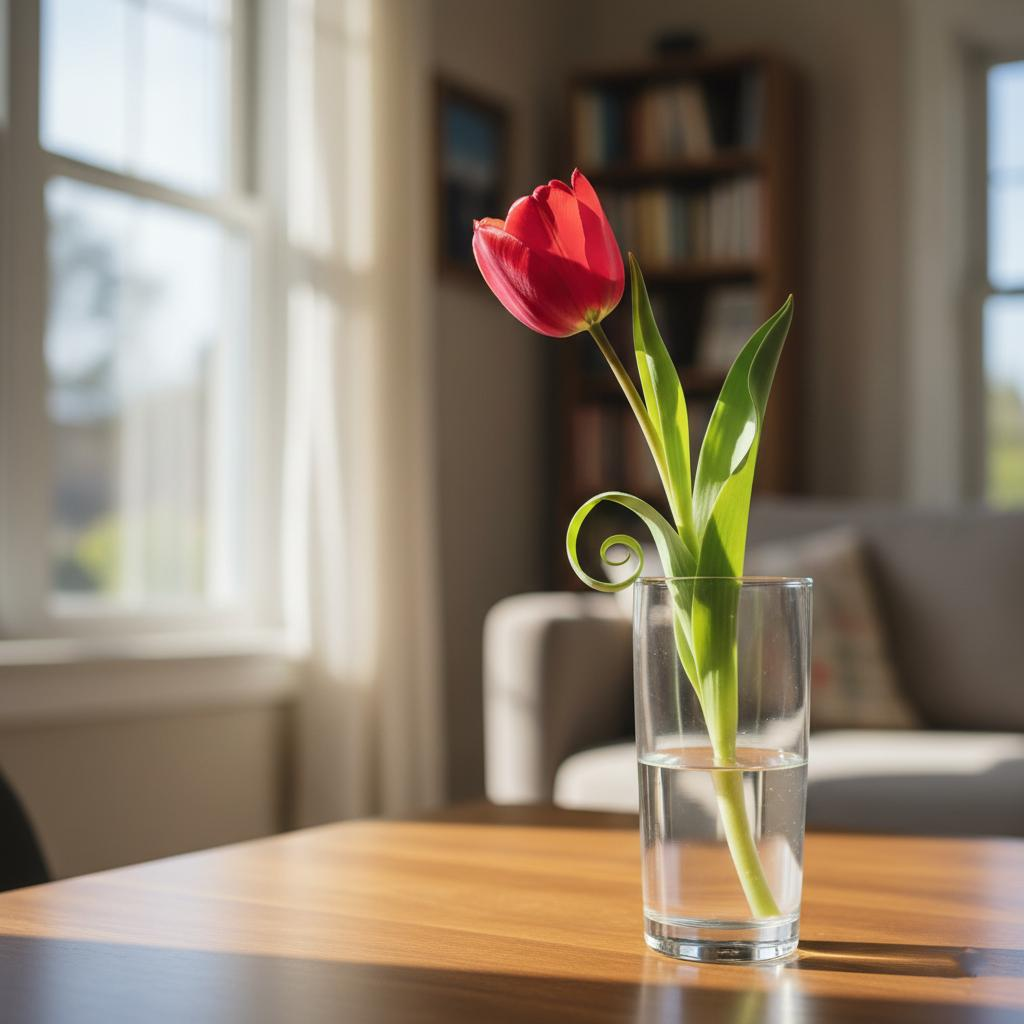tulip: (468, 163, 813, 962)
